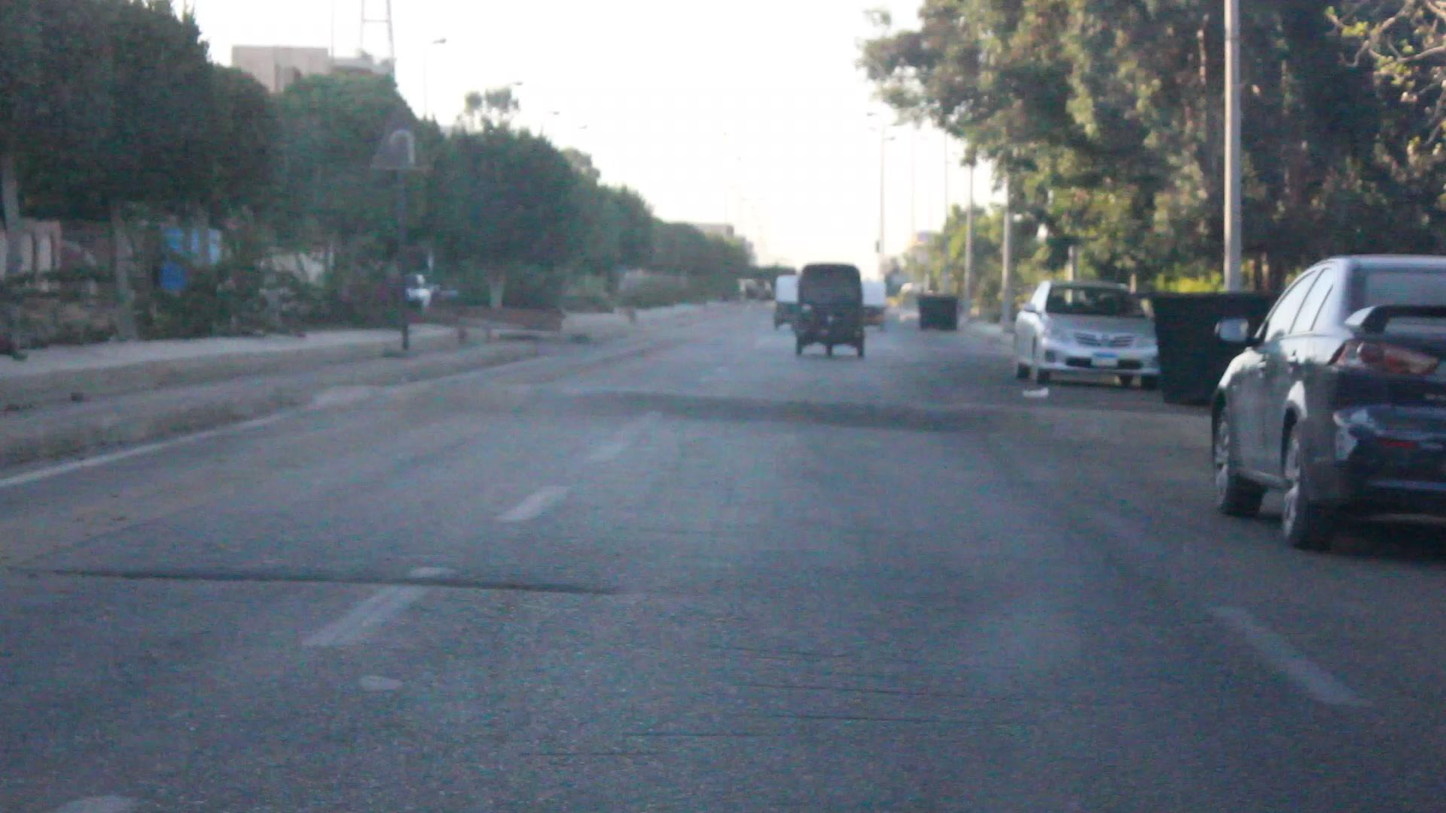Bump: (304, 381, 1218, 446)
